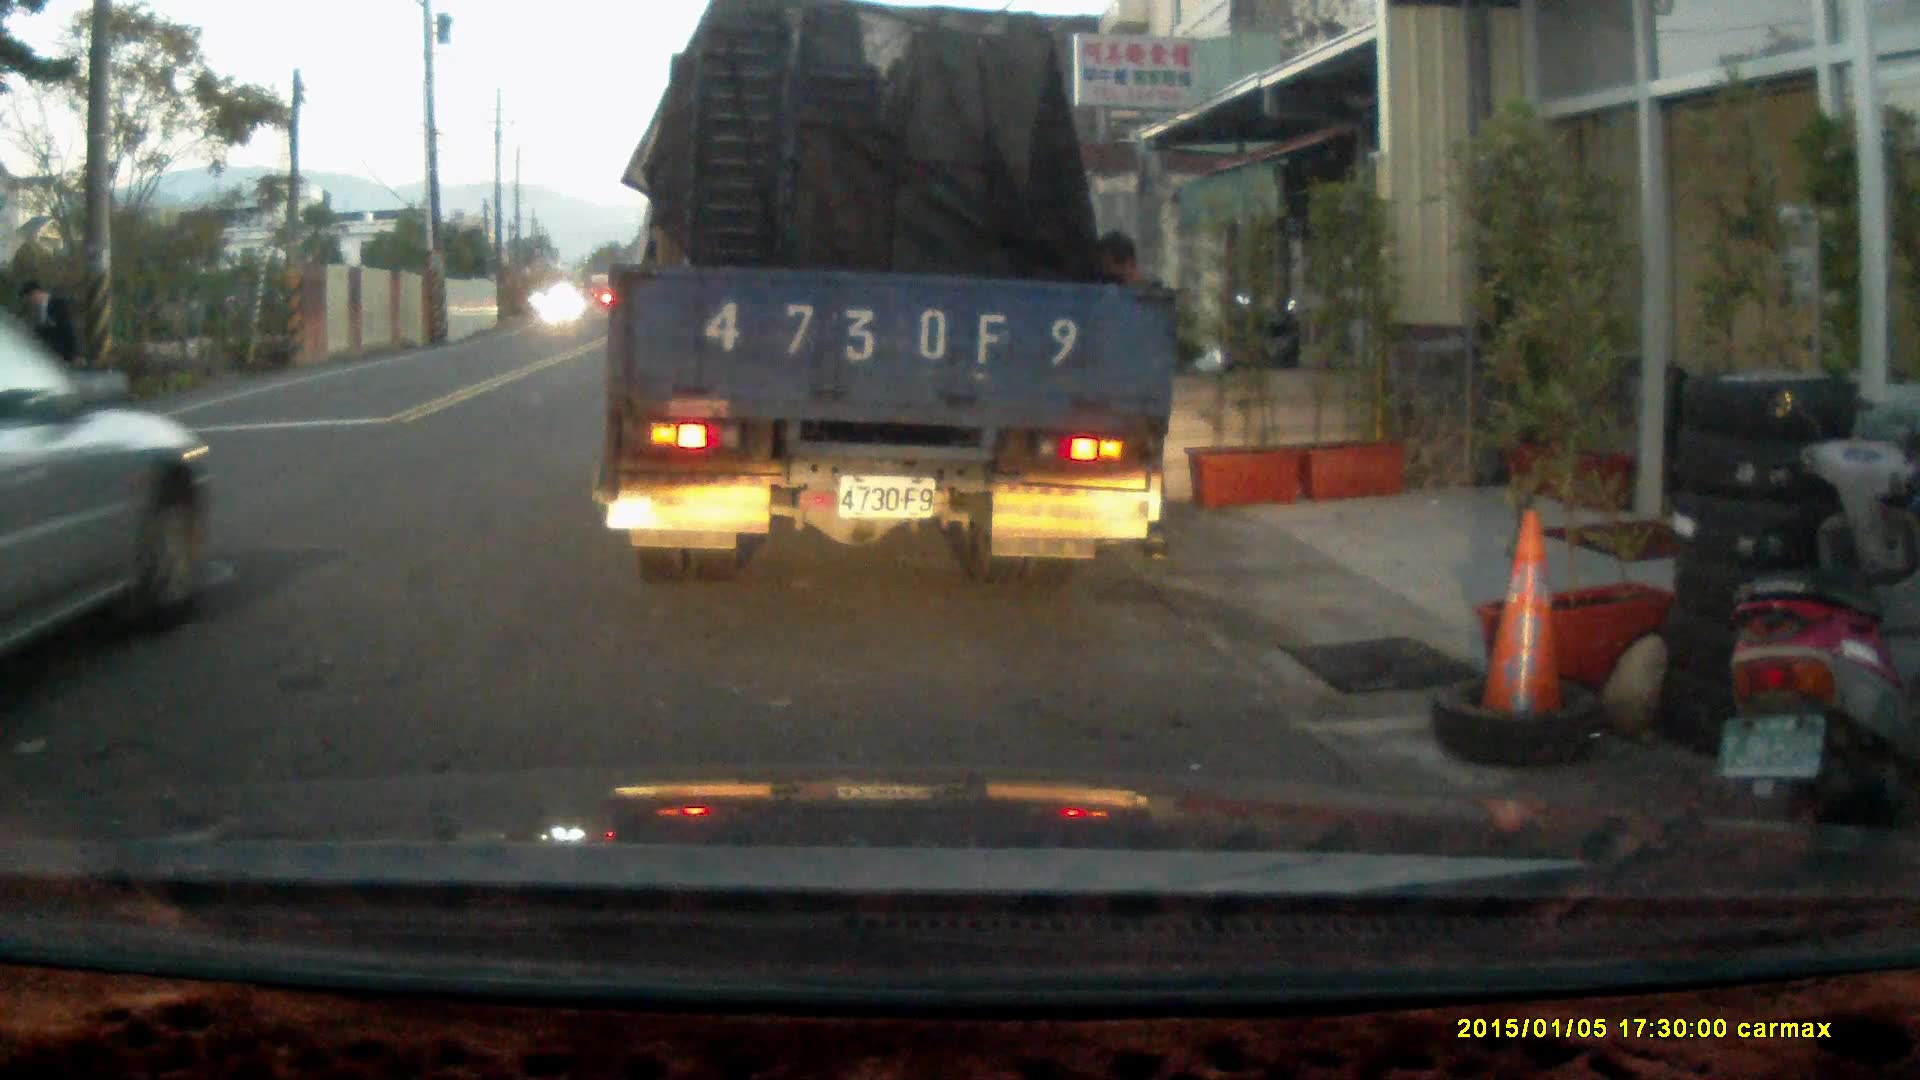pedestrian: (10, 275, 80, 438)
vehicle: (605, 23, 1188, 572), (1, 313, 218, 676)
